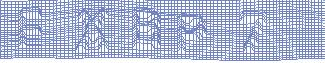7: (238, 9, 269, 55)
B: (129, 6, 162, 51)
F: (17, 5, 44, 49)
P: (176, 13, 207, 56)
X: (73, 8, 112, 55)
